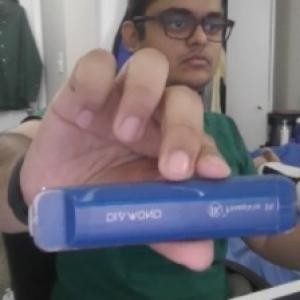Diamond-E-Ciggirate: (27, 170, 299, 256)
